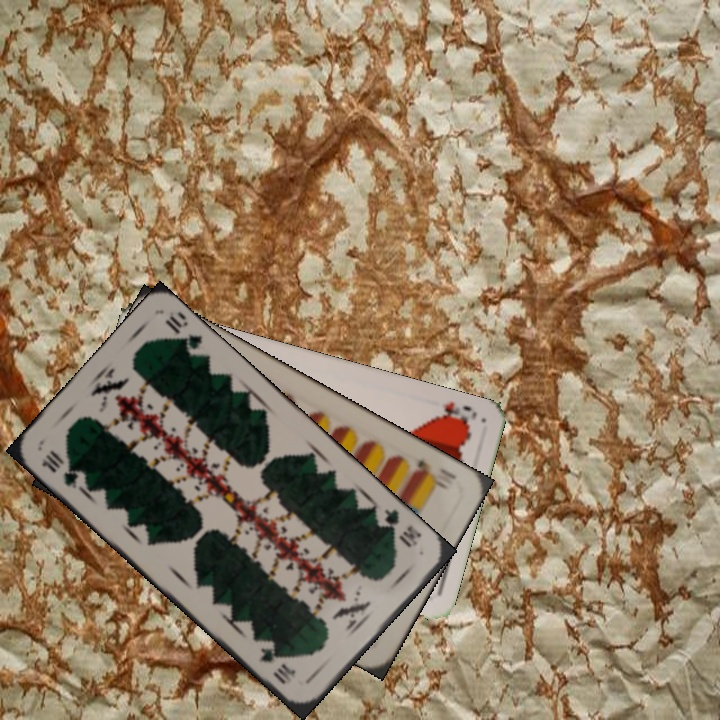E10: (410, 455, 459, 493)
G10: (37, 446, 86, 493), (378, 504, 424, 551)
HO: (432, 397, 480, 429)
